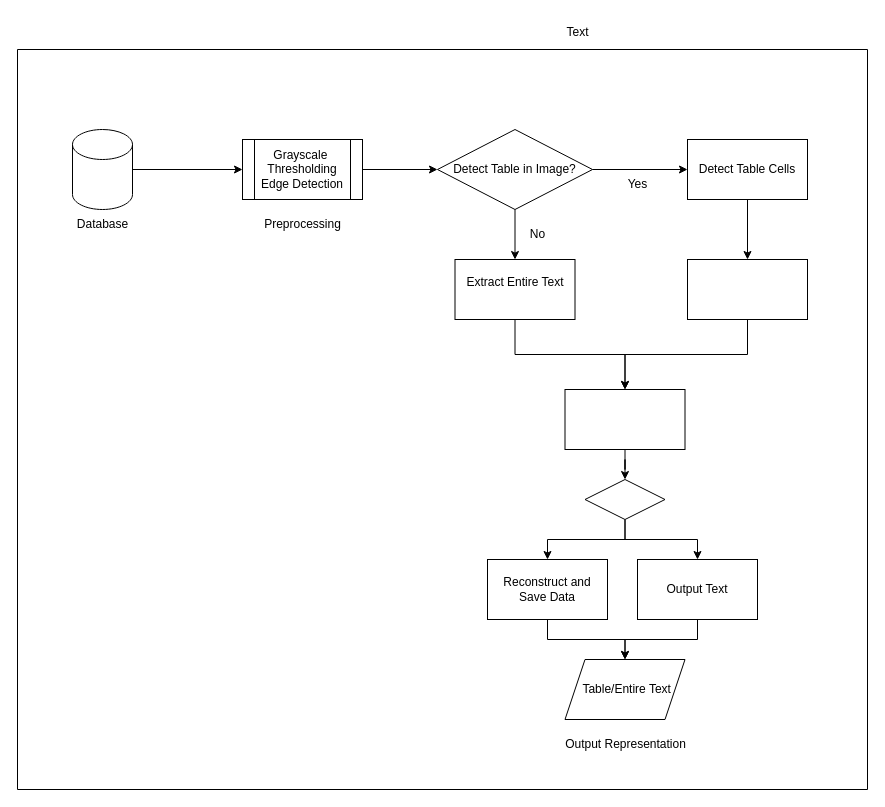
This 885x807 diagram has some shape labels left out. Here are the shapes that lost their labels. From the top down, the centre of each, then its label:
At point (102, 169): "Input Image".
At point (747, 289): "Extract Text from Cells".
At point (624, 419): "Translate Text".
At point (624, 499): "Table ?".
